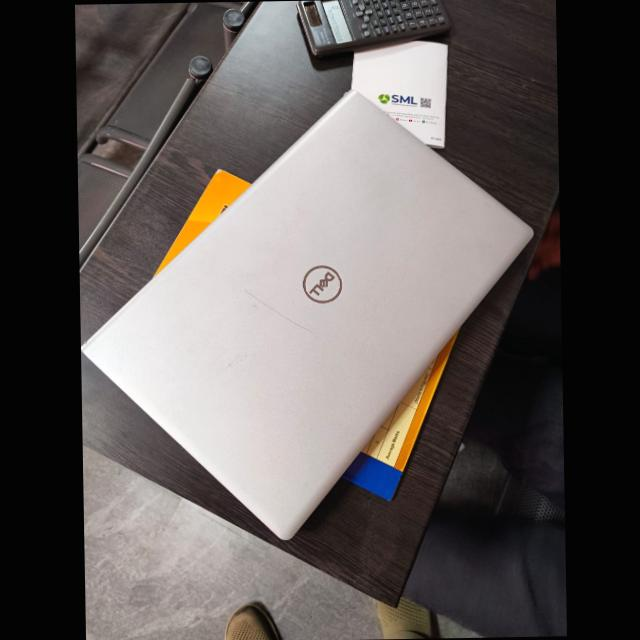laptop: (81, 89, 532, 539)
